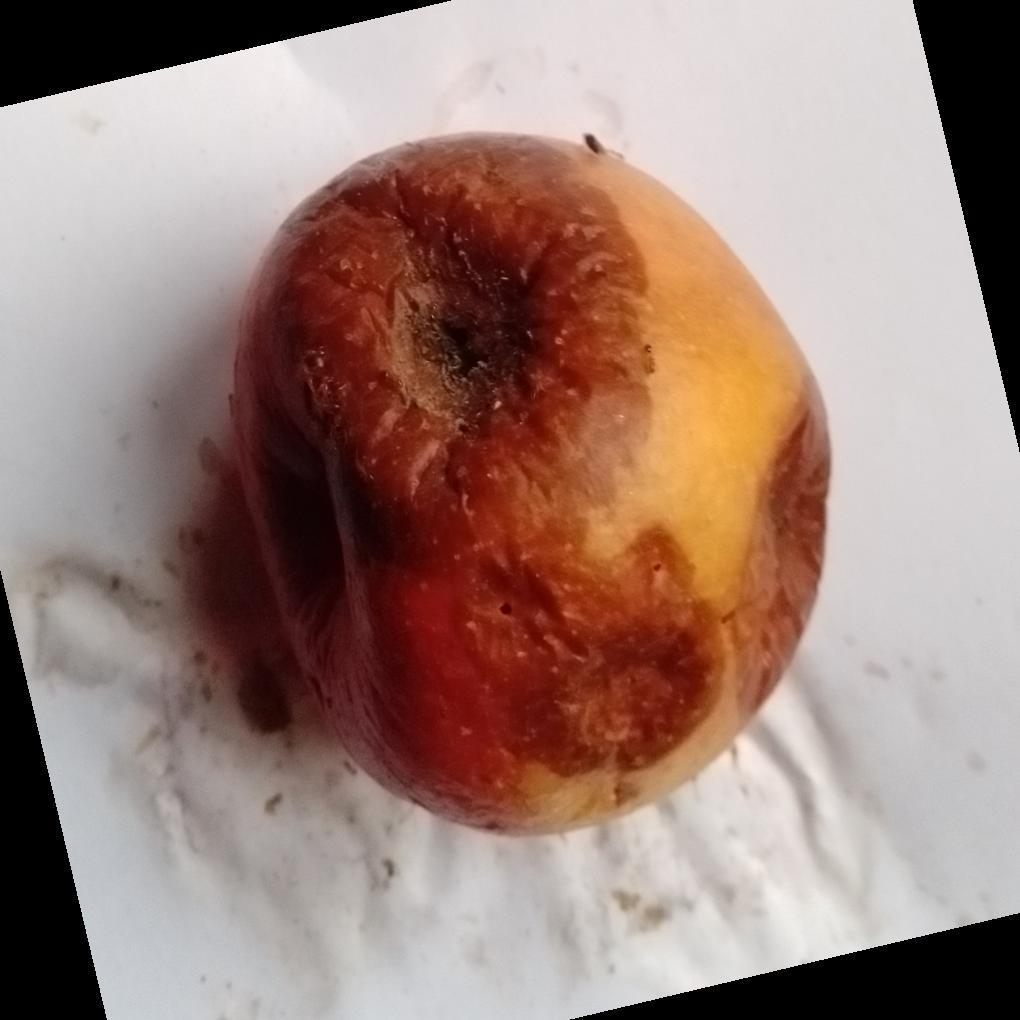FreshOrange: (177, 132, 833, 840)
